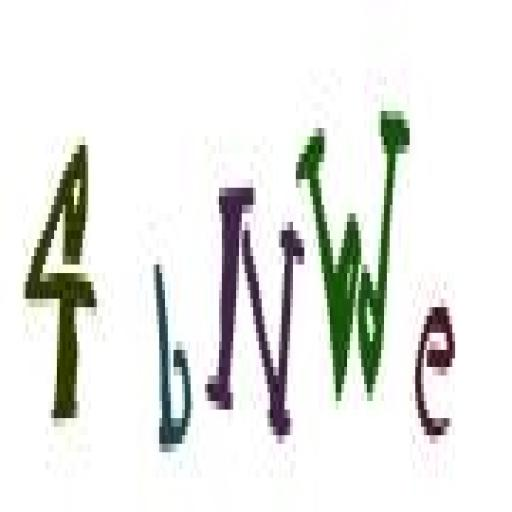4: (22, 119, 95, 439)
N: (208, 177, 302, 447)
W: (295, 107, 406, 413)
b: (150, 246, 197, 460)
e: (412, 290, 460, 444)
